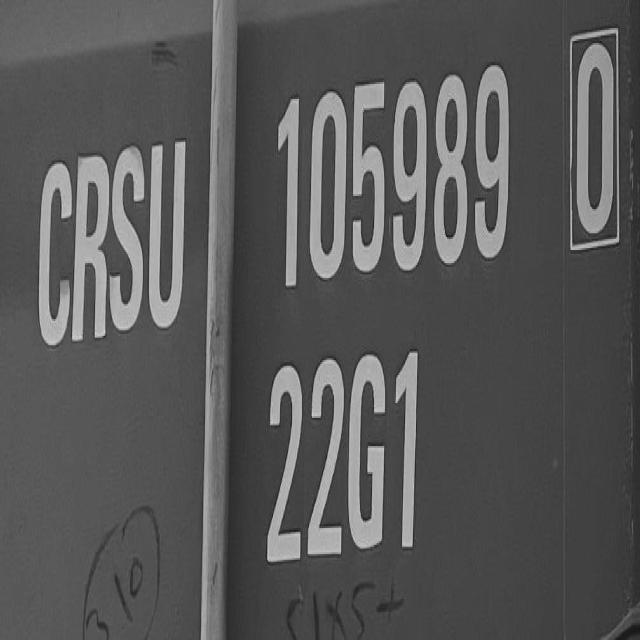dv: (559, 19, 630, 262)
owner: (19, 122, 194, 348)
serial: (263, 52, 519, 305)
size: (256, 339, 431, 571)
